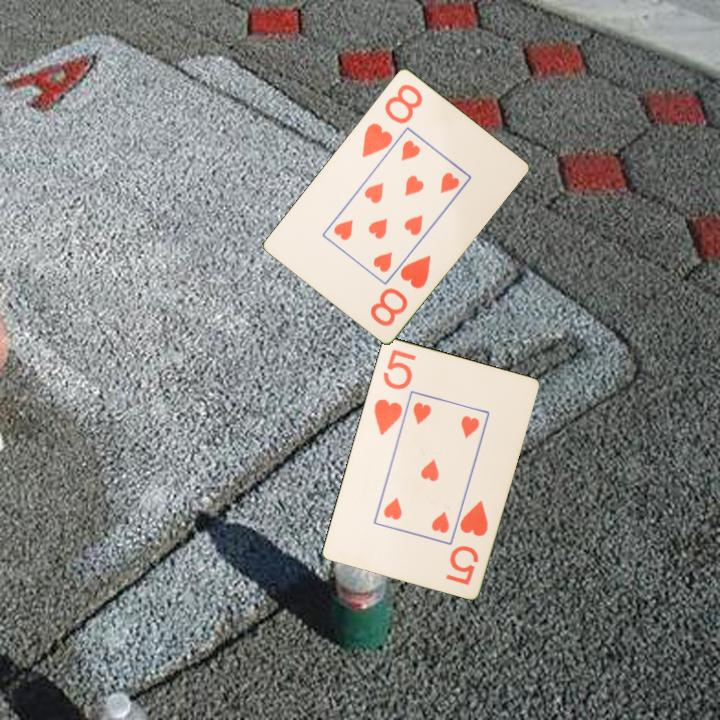5h: (370, 345, 419, 438), (442, 496, 491, 588)
8h: (358, 80, 426, 160), (366, 251, 434, 329)
